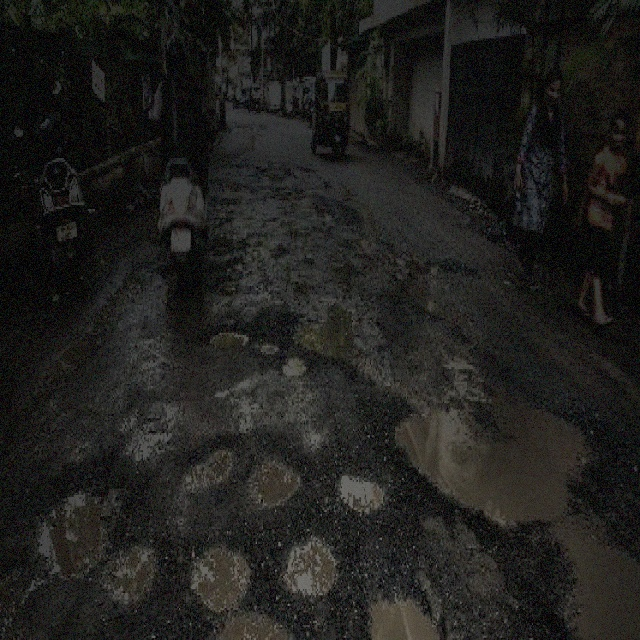pothole: (390, 378, 598, 527), (29, 467, 127, 580), (556, 523, 639, 638), (288, 290, 387, 376), (365, 580, 447, 634), (190, 538, 252, 608), (282, 529, 340, 593), (103, 536, 156, 602), (181, 437, 240, 495), (244, 450, 304, 504), (216, 606, 298, 638), (338, 469, 387, 510), (205, 322, 250, 350), (280, 352, 307, 378), (258, 341, 281, 354)
